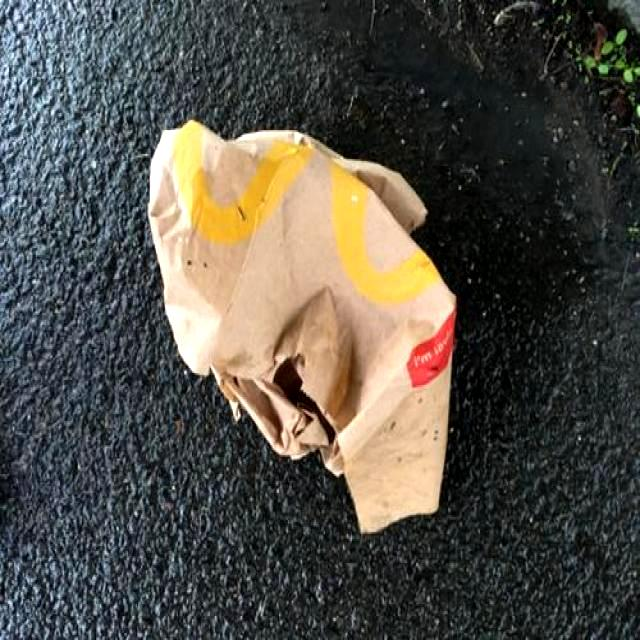Paper: (144, 118, 458, 538)
